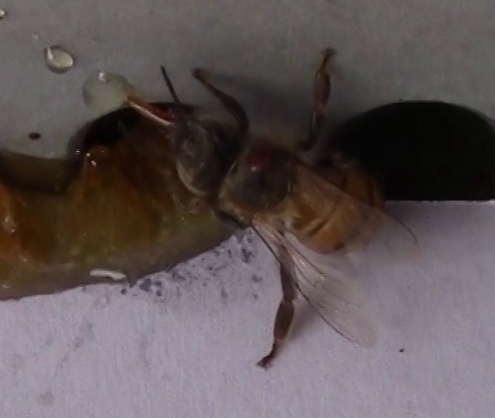Varroa destructor: (243, 146, 281, 179)
